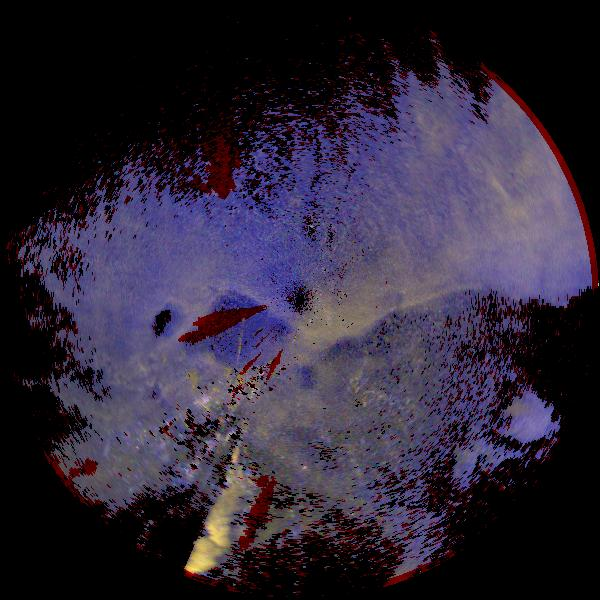roost: (156, 355, 171, 370)
